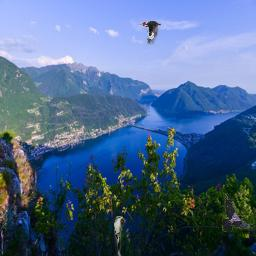Crow: (222, 193, 255, 232)
Cuckoo: (114, 216, 123, 256)
Woodpecker: (139, 21, 161, 45)
